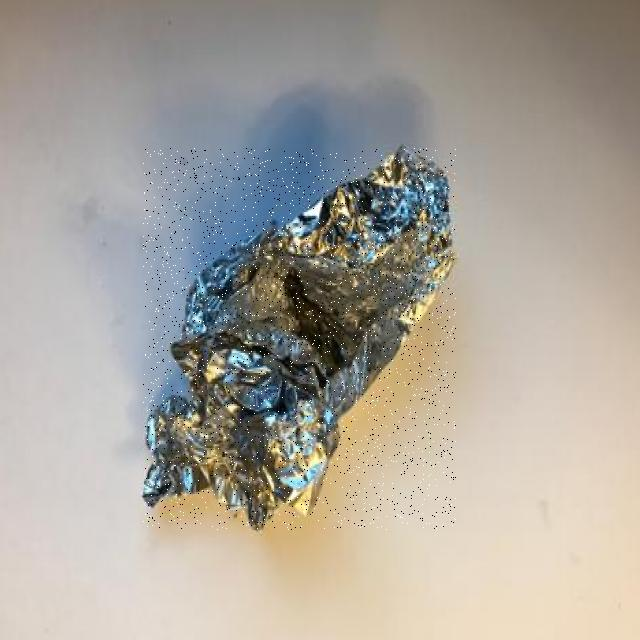metal: (143, 148, 456, 530)
